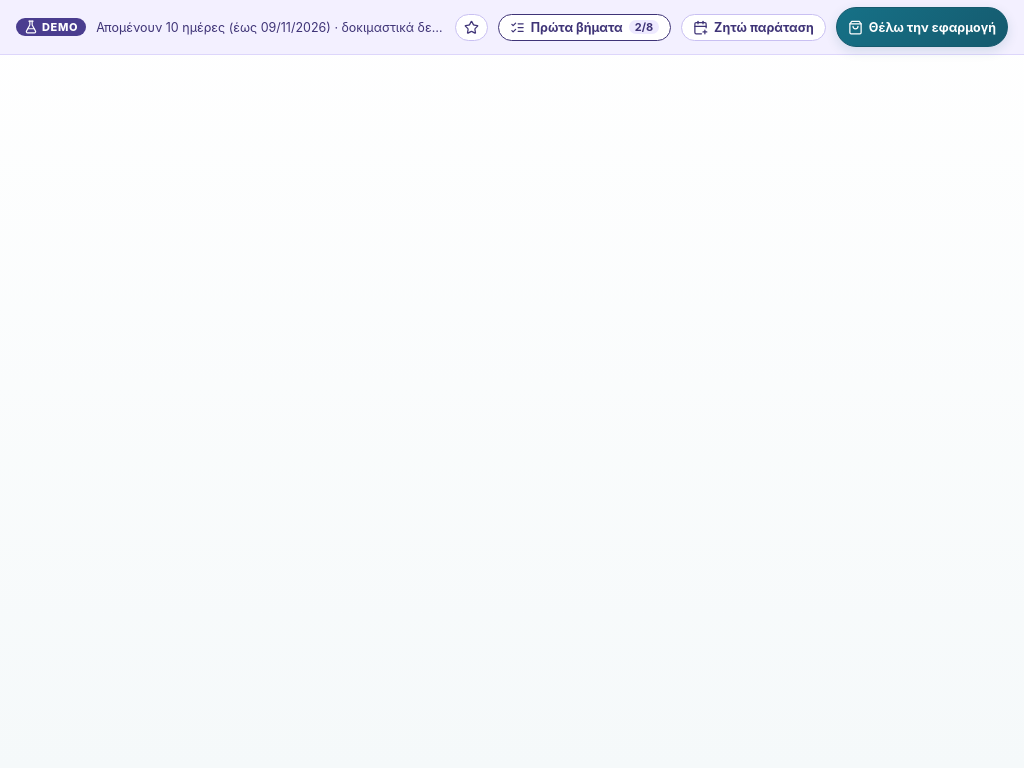
Test: Demo bar › sends "I want the application" with a phone number
The image size is (1024, 768).
Click the button "Θέλω την εφαρμογή". click: (922, 27)
box: [836,7,1008,47]
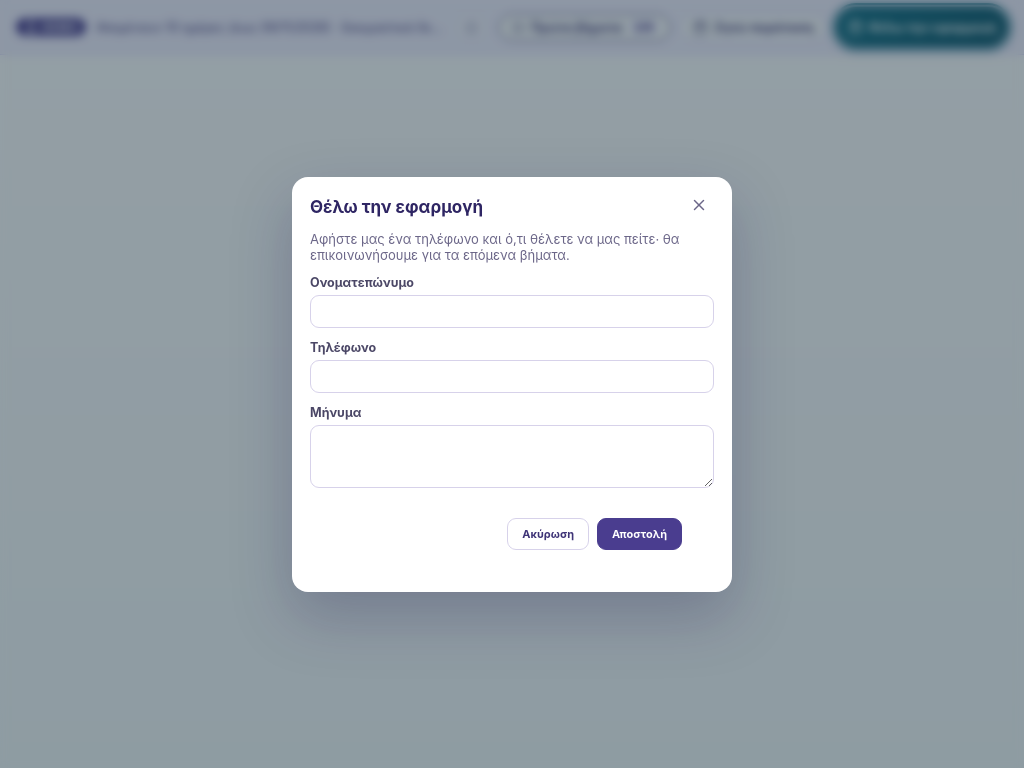
Type " 2410 000000 " into the field labelled "Τηλέφωνο". click: (512, 376)
box: [310,360,714,392]
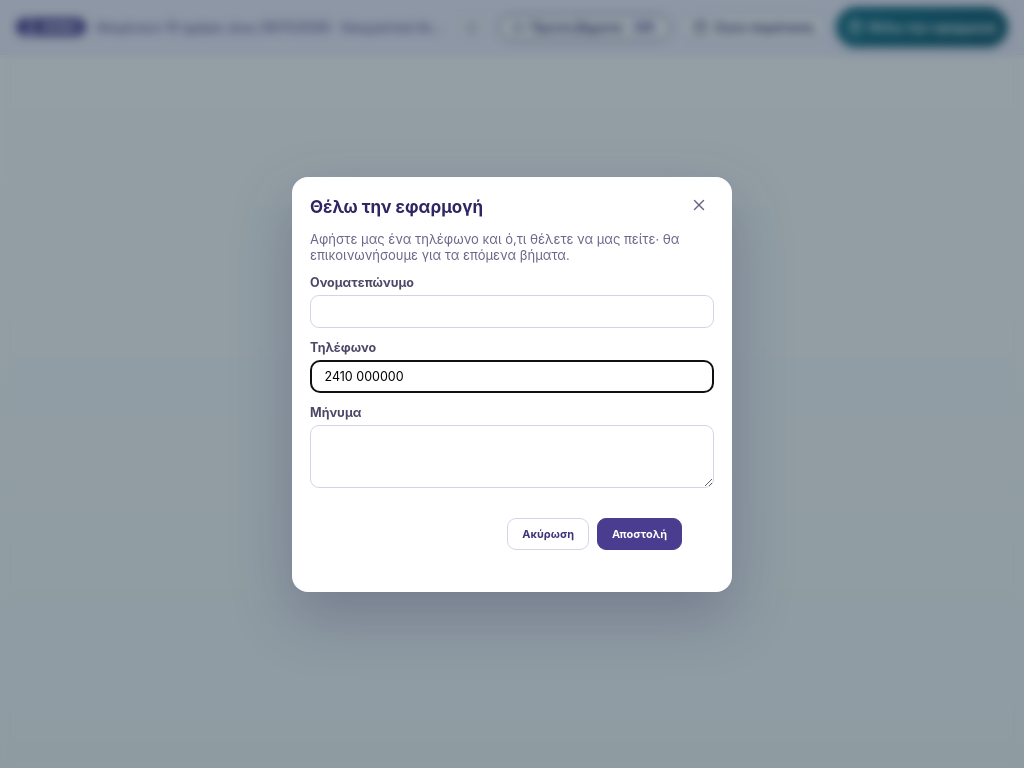
Click the button "Αποστολή". click: (640, 534)
box: [597,518,682,550]
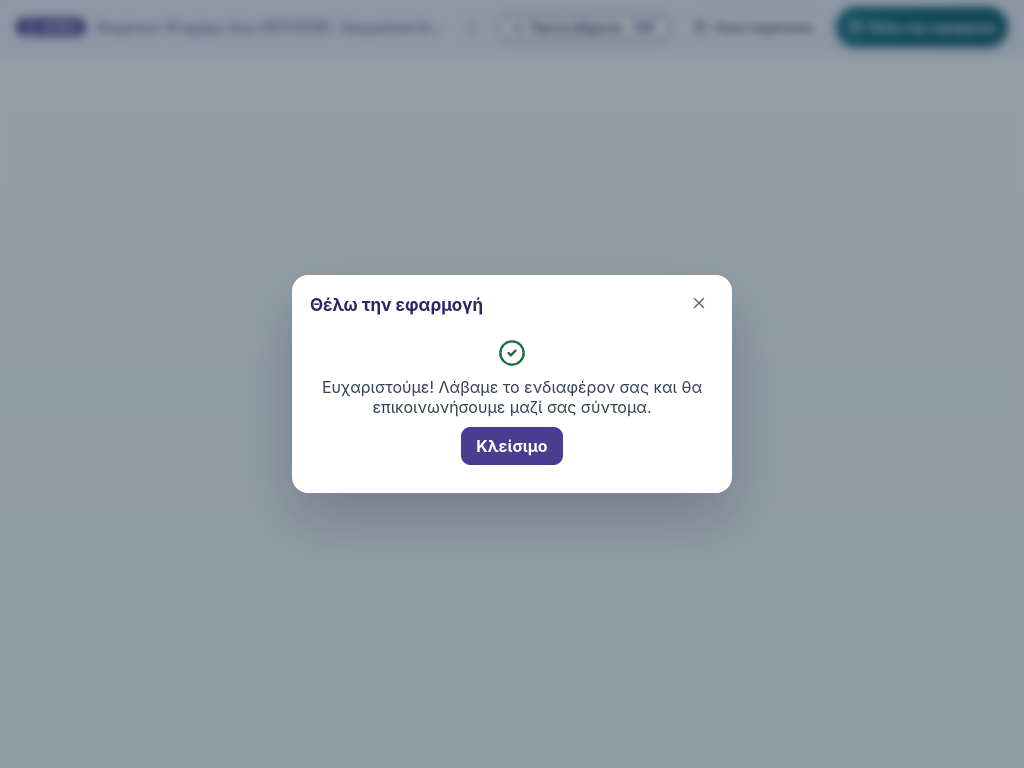
Now the text "Λάβαμε το ενδιαφέρον σας" is shown, box [322,377,702,417]
